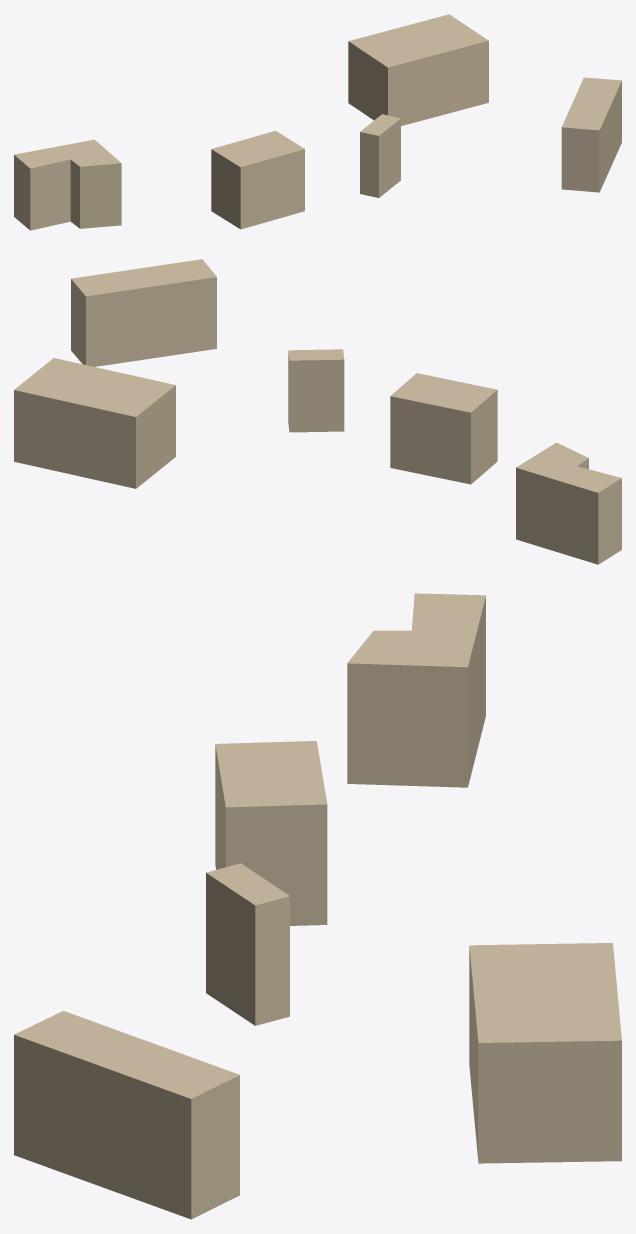
Rendered from -6_11-estimated-coarse.glb.
3 renders of one model, top to bottom at view 1: azimuth 30°, elevation 25°; view 2: azimuth 150°, elevation 25°; view 3: azimuth 270°, elevation 25°, orthographic. The views are drawn at different scales.
Size of the model in its own units: 108 by 12 by 54.88.
